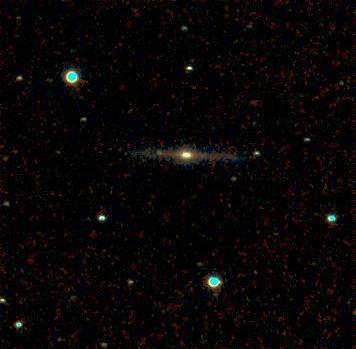star: (145, 136, 175, 166)
